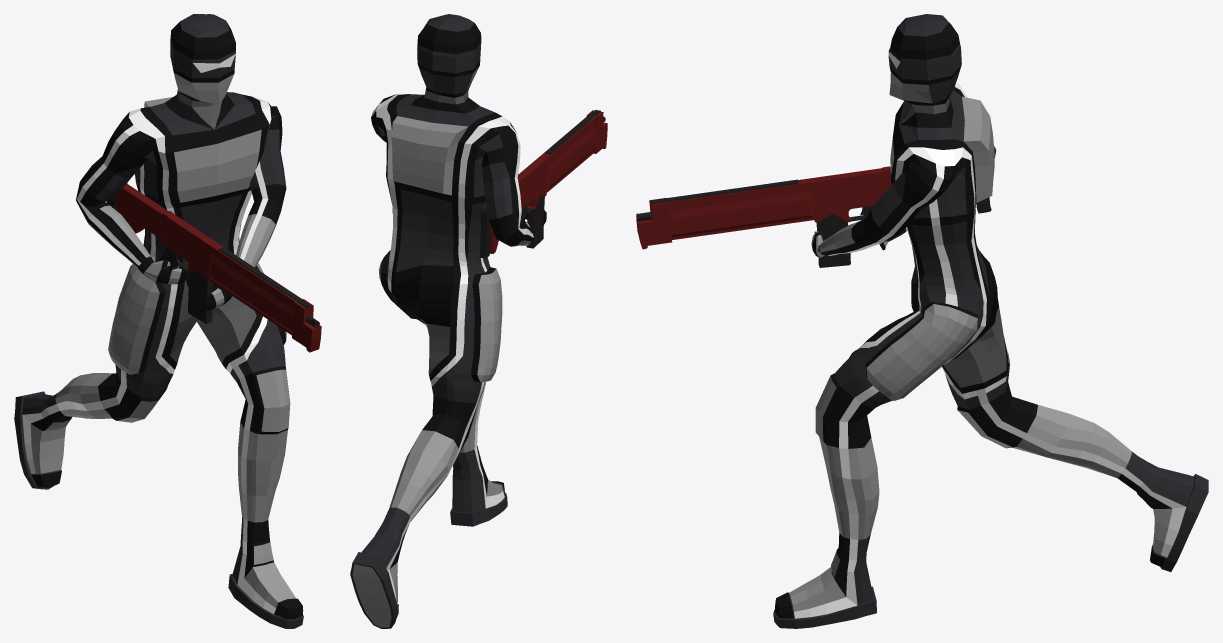
The model's file is MCR8.obj.
3 renders of one model, left to right at view 1: azimuth 30°, elevation 25°; view 2: azimuth 150°, elevation 25°; view 3: azimuth 270°, elevation 25°, orthographic. The views are drawn at different scales.
Parts seen in each view (by area): view 1: metarig_object_metarig_mesh, Cube.001; view 2: metarig_object_metarig_mesh, Cube.001; view 3: metarig_object_metarig_mesh, Cube.001.
Part boxes in pixels (x1=…): metarig_object_metarig_mesh: x1=14, y1=14, x2=303, y2=628; Cube.001: x1=106, y1=183, x2=321, y2=352; metarig_object_metarig_mesh: x1=350, y1=14, x2=546, y2=628; Cube.001: x1=479, y1=110, x2=607, y2=258; metarig_object_metarig_mesh: x1=773, y1=14, x2=1208, y2=628; Cube.001: x1=636, y1=166, x2=991, y2=267.
Bounding box in the file's own units: 0.5322 × 1.63 × 1.42.
2 materials, 2 textured.
